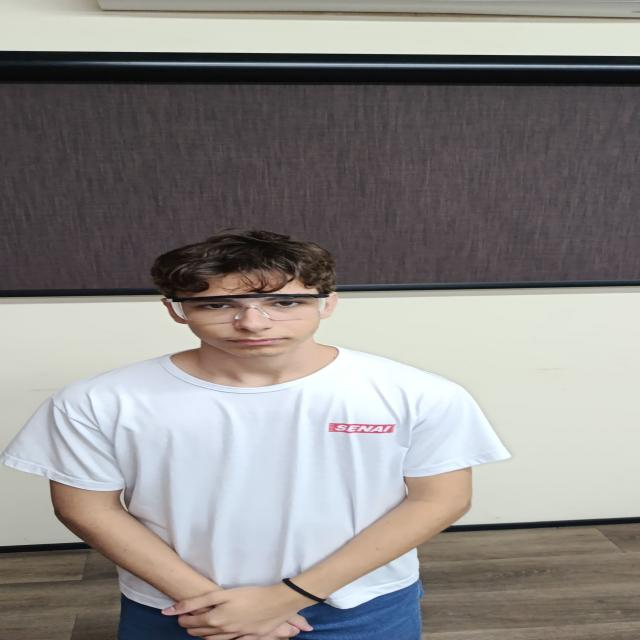oculos-epi: (170, 293, 328, 324)
